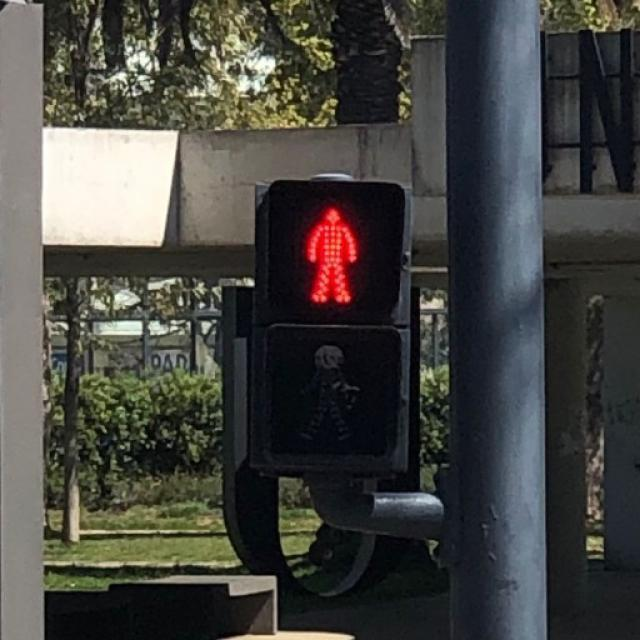red_light: (289, 199, 376, 311)
